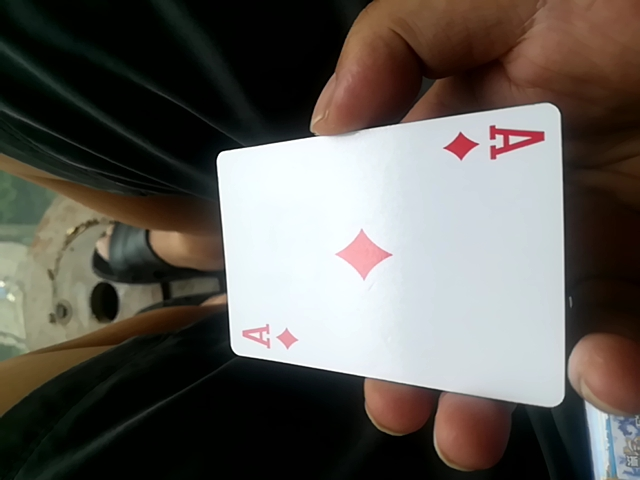fk a: (211, 103, 569, 413)
